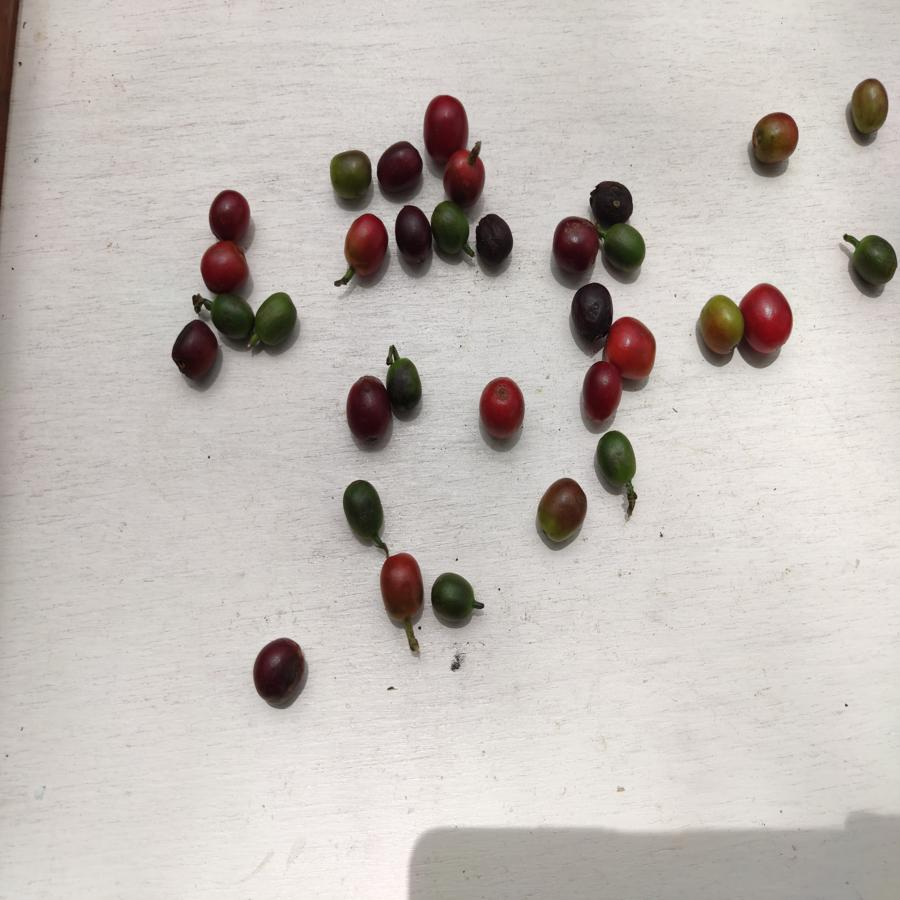Inmaduro: (341, 477, 385, 544), (252, 291, 300, 350), (848, 233, 896, 290), (595, 428, 640, 488), (599, 224, 650, 275), (429, 571, 476, 624), (387, 356, 425, 414), (428, 203, 471, 254), (212, 294, 253, 338)
Maduro: (741, 283, 796, 353), (476, 375, 527, 440), (341, 212, 390, 278), (420, 94, 471, 156), (608, 318, 659, 379), (439, 148, 490, 205), (580, 362, 624, 420), (197, 241, 247, 292)
Pinton: (534, 475, 588, 544), (376, 550, 426, 620), (695, 291, 742, 363), (844, 76, 894, 139), (750, 109, 798, 165), (324, 149, 373, 197)
Sobremaduro: (250, 635, 305, 703), (343, 373, 389, 446), (171, 320, 220, 379), (553, 214, 595, 280), (571, 281, 615, 342), (473, 211, 517, 269), (393, 204, 433, 264), (376, 144, 425, 191), (586, 179, 634, 225), (209, 190, 252, 238)
